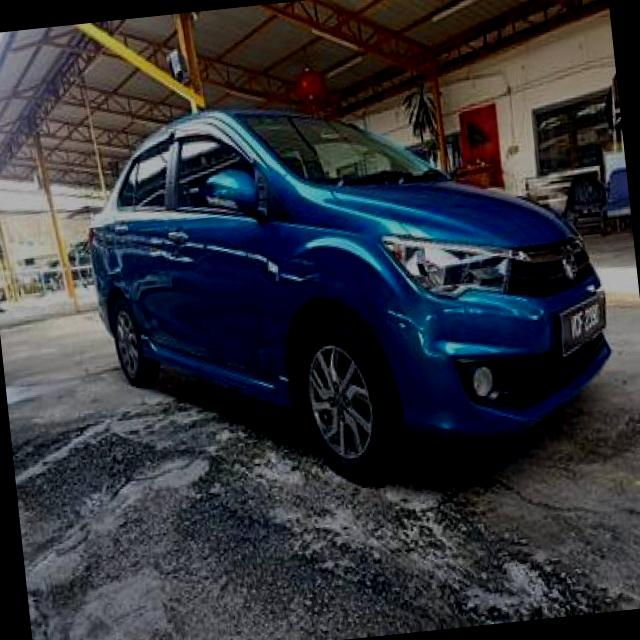PeroduaBezza: (73, 68, 622, 504)
